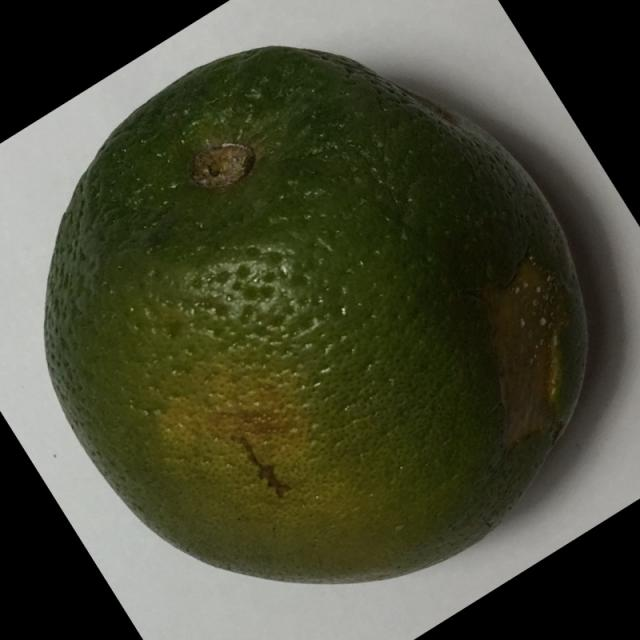canker: (32, 30, 610, 602)
